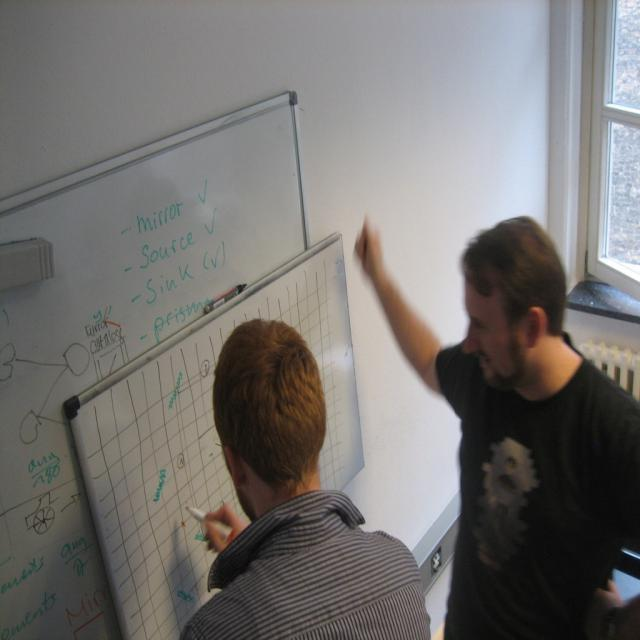Whiteboard: (0, 91, 312, 639), (63, 231, 365, 639)
